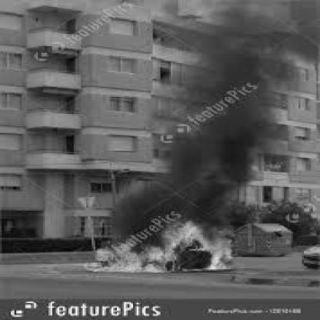Fire: (78, 205, 238, 273)
